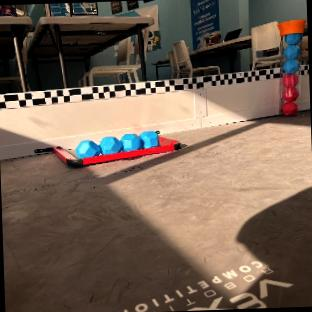Parking-R: (35, 136, 181, 166)
V5_BLUE: (76, 130, 159, 162)
